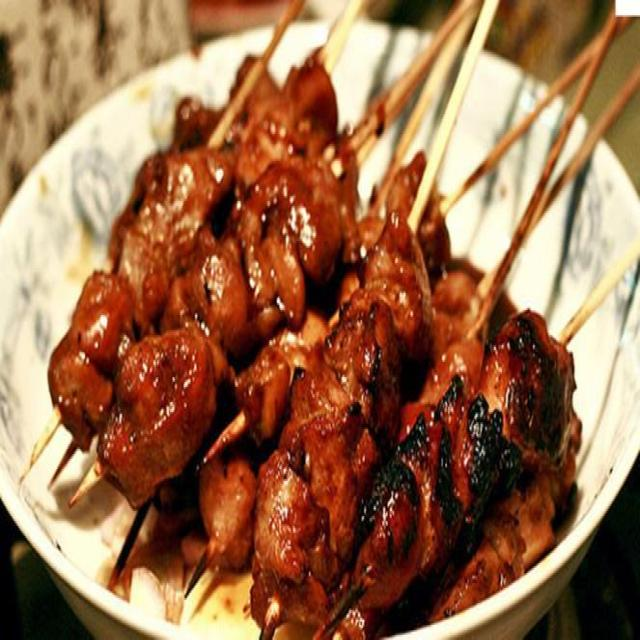Sate: (44, 5, 640, 639)
